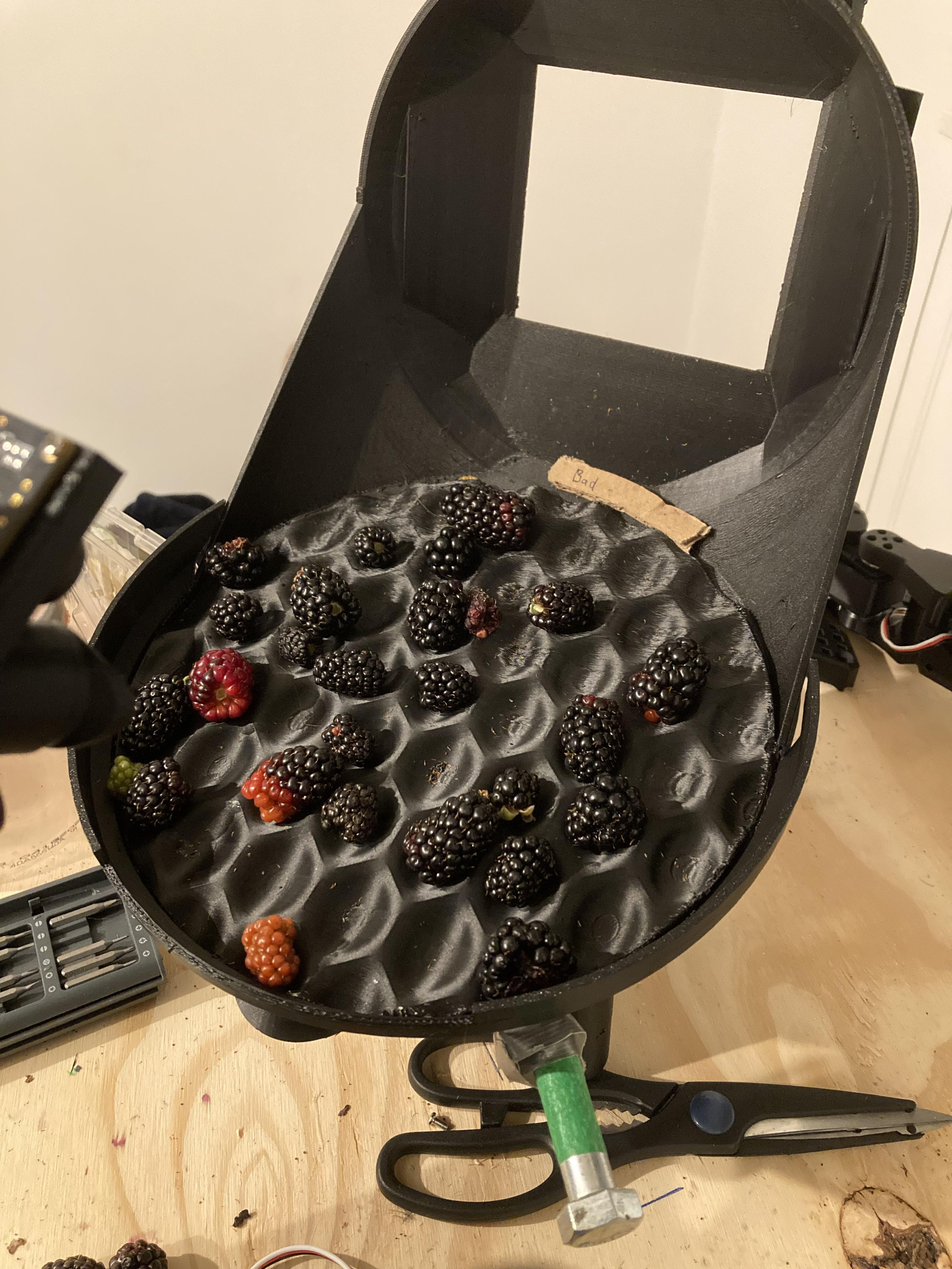berry: (477, 914, 572, 997), (404, 795, 489, 886), (627, 636, 709, 724), (440, 480, 535, 550), (247, 743, 327, 822), (567, 777, 645, 854), (559, 695, 624, 783), (119, 676, 187, 759), (485, 835, 558, 907), (320, 779, 397, 846), (291, 567, 362, 638), (189, 644, 254, 719), (125, 758, 193, 827), (408, 579, 468, 651), (241, 915, 300, 987), (312, 642, 388, 697), (323, 711, 379, 773), (411, 656, 474, 711), (527, 582, 594, 633), (204, 537, 266, 589), (423, 526, 479, 578), (208, 591, 261, 642), (489, 768, 539, 822), (464, 586, 502, 639), (277, 623, 320, 669), (354, 525, 397, 568), (109, 1238, 168, 1269), (107, 755, 143, 801), (42, 1255, 105, 1269)
